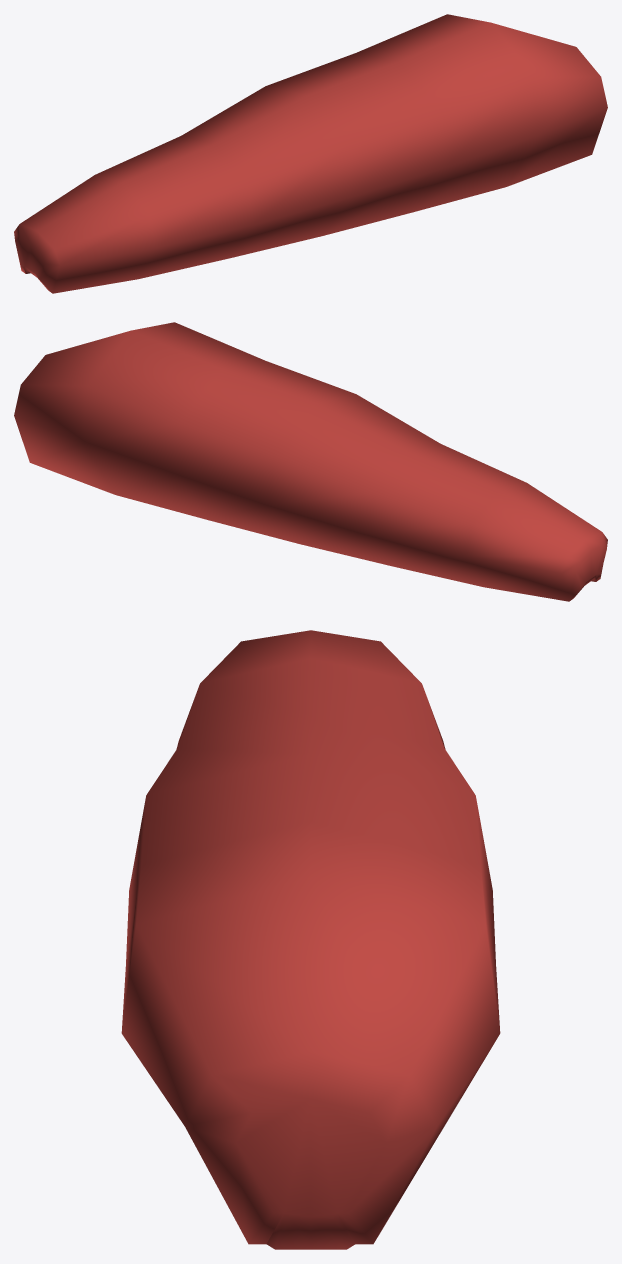
File: adv_lod2.glb
3 renders of one model, top to bottom at view 1: azimuth 30°, elevation 25°; view 2: azimuth 150°, elevation 25°; view 3: azimuth 270°, elevation 25°, orthographic. The views are drawn at different scales.
Parts seen in each view (by area): view 1: adv_lod2; view 2: adv_lod2; view 3: adv_lod2.
Boxes of the visible parts, x1,y1,x2,y2 form: adv_lod2: (14,14,607,293); adv_lod2: (14,322,607,601); adv_lod2: (121,630,500,1249).
Size of the model in its own units: 1 by 0.2717 by 0.2967.
